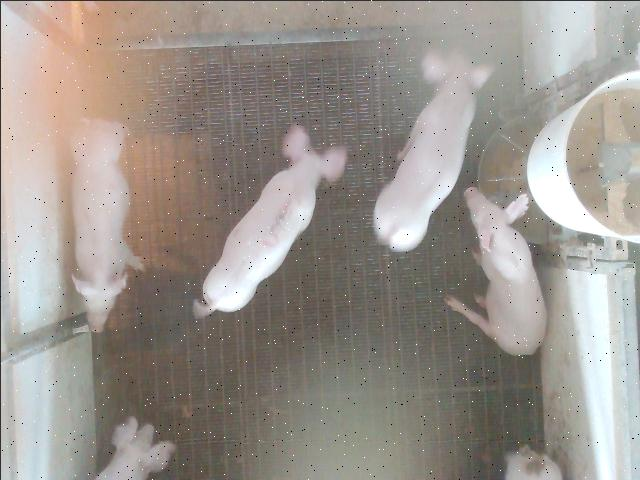pig-3: (192, 124, 345, 316)
